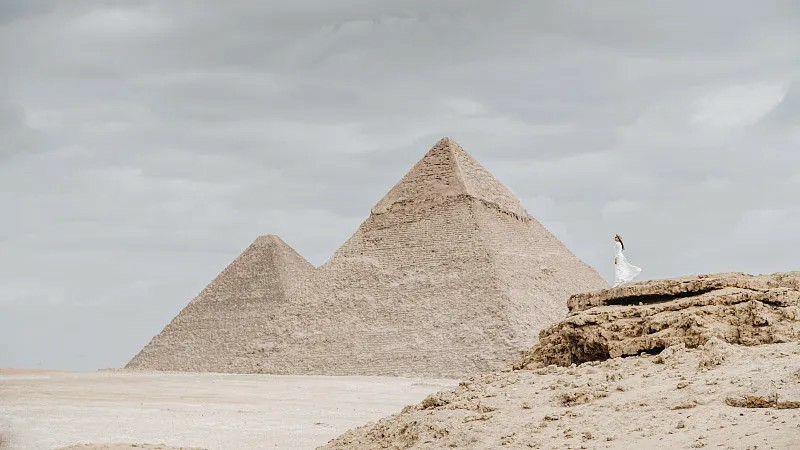Pyramid: (222, 137, 610, 377), (126, 236, 317, 371)
